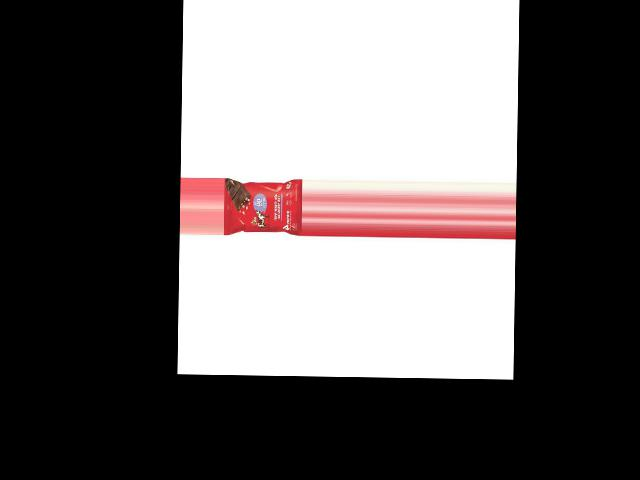chocolate: (223, 177, 303, 234)
